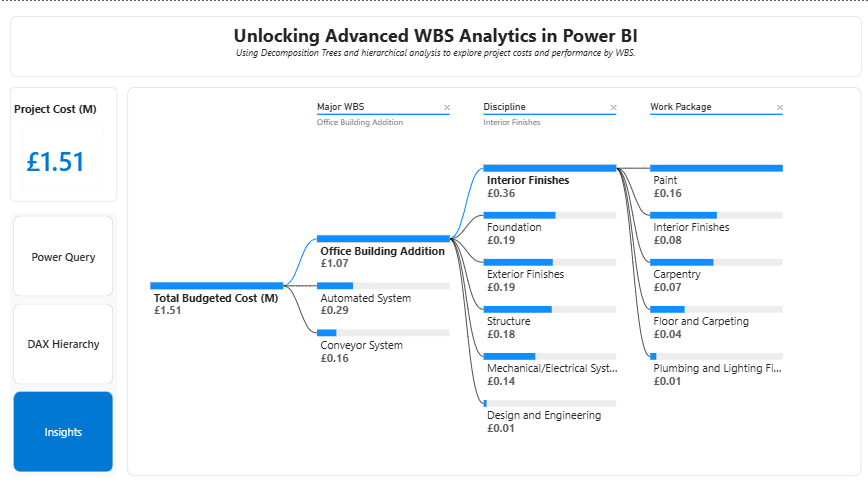

The dashboard page shown, as its layout file describes it:
{"tool":"powerbi","page":{"name":"Insights","canvas":[1280,720],"ordinal":2},"visuals":[{"type":"decompositionTreeVisual","fields":{"ExplainBy":["Dim_WBS_DAX.Level 1 Name Hierarchy.Level 2 Name","Dim_WBS_DAX.Level 1 Name Hierarchy.Level 3 Name","Dim_WBS_DAX.Level 1 Name Hierarchy.Level 4 Name Final"],"Analyze":["Fact_Activities.Total Budgeted Cost"]},"box":[187.7,126.9,1079.5,571.9],"z":0},{"type":"textbox","box":[14.3,21.4,1252.9,89.4],"z":1000},{"type":"pageNavigator","box":[14.3,311,157.3,387.8],"z":3001},{"type":"cardVisual","title":"Project Cost (M)","fields":{"Data":["Fact_Activities.Total Budgeted Cost (M)"]},"box":[14.3,126.9,157.3,168],"z":3002}]}

Visuals, with their boxes in screenshot pixels (x1, y1, x2, y2), scaled from the page's 1280x720 canvas onto the 868x487 screenshot:
decompositionTreeVisual - Dim_WBS_DAX.Level 1 Name Hierarchy.Level 2 Name x Dim_WBS_DAX.Level 1 Name Hierarchy.Level 3 Name: <box>127,86,859,473</box>
textbox: <box>10,14,859,75</box>
pageNavigator: <box>10,210,116,473</box>
"Project Cost (M)" cardVisual: <box>10,86,116,199</box>
